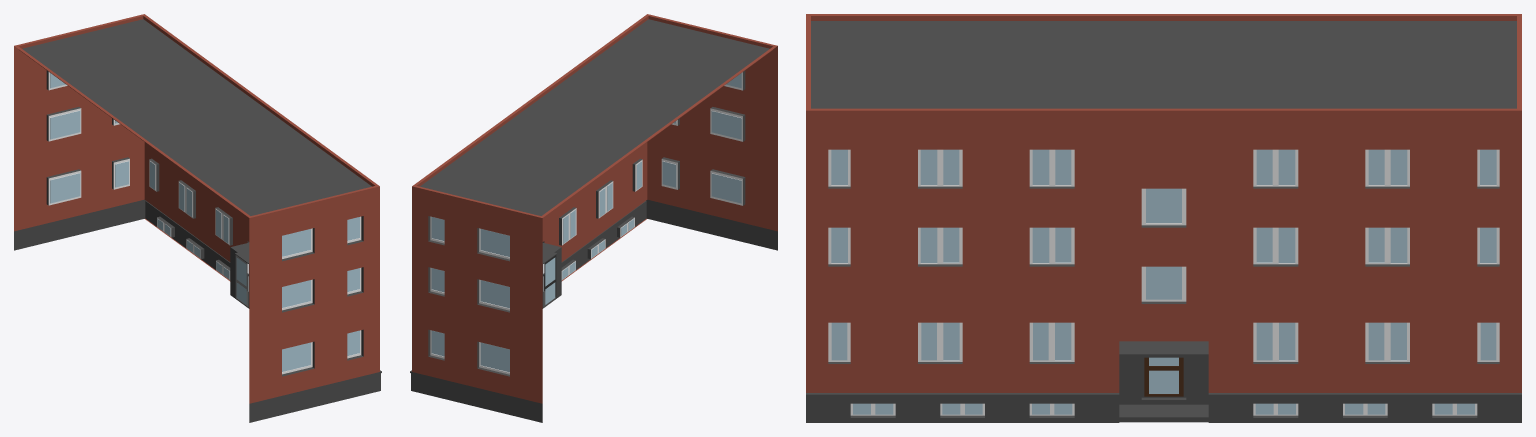
File: Apartment_1.5_Material.fbx
The picture shows the model from 3 angles, left to right: view 1: azimuth 30°, elevation 25°; view 2: azimuth 150°, elevation 25°; view 3: azimuth 270°, elevation 25°; orthographic projection. The views are drawn at different scales.
Parts seen in each view (by area): view 1: Apartment_1; view 2: Apartment_1; view 3: Apartment_1.
Part boxes in pixels (x1,y1,x2,y2): Apartment_1: (14,14,381,422); Apartment_1: (410,14,777,422); Apartment_1: (806,14,1521,422).
Size of the model in its own units: 1816 by 2400 by 5000.
